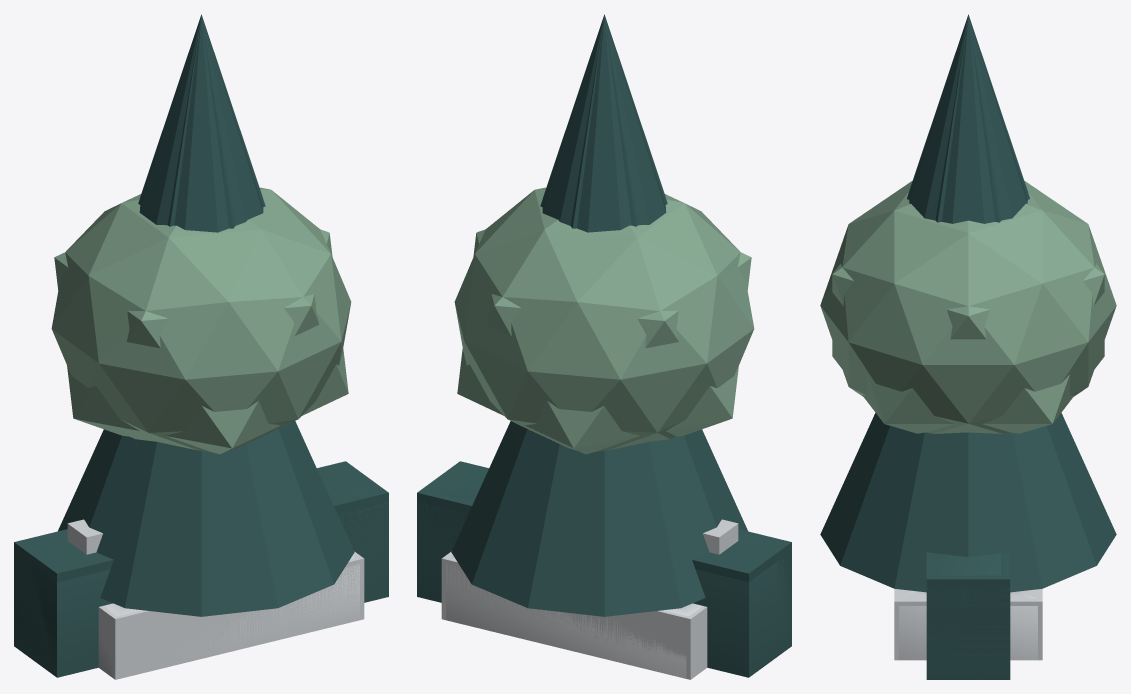
Rendered from ENV_NATURE_KIT_A_v001.glb.
3 views of the same model, side by side, from view 1: azimuth 30°, elevation 25°; view 2: azimuth 150°, elevation 25°; view 3: azimuth 270°, elevation 25° (orthographic). The views are drawn at different scales.
Parts seen in each view (by area): view 1: ENV_NATURE_KIT_A_FIR, ENV_NATURE_KIT_A_TREE, ENV_NATURE_KIT_A_HEDGE_LOW, ENV_NATURE_KIT_A_FOUNTAIN_LOW, ENV_NATURE_KIT_A_HEDGE, ENV_NATURE_KIT_A_TREE_LOW, ENV_NATURE_KIT_A_FOUNTAIN, ENV_NATURE_KIT_A_FIR_LOW; view 2: ENV_NATURE_KIT_A_FIR, ENV_NATURE_KIT_A_TREE, ENV_NATURE_KIT_A_HEDGE, ENV_NATURE_KIT_A_HEDGE_LOW, ENV_NATURE_KIT_A_FOUNTAIN, ENV_NATURE_KIT_A_TREE_LOW, ENV_NATURE_KIT_A_FOUNTAIN_LOW, ENV_NATURE_KIT_A_FIR_LOW; view 3: ENV_NATURE_KIT_A_FIR, ENV_NATURE_KIT_A_TREE, ENV_NATURE_KIT_A_HEDGE_LOW, ENV_NATURE_KIT_A_TREE_LOW, ENV_NATURE_KIT_A_HEDGE, ENV_NATURE_KIT_A_FOUNTAIN, ENV_NATURE_KIT_A_FIR_LOW, ENV_NATURE_KIT_A_FOUNTAIN_LOW.
Part boxes in pixels (left/top/right/bottom): ENV_NATURE_KIT_A_FIR: left=58, top=14, right=354, bottom=616; ENV_NATURE_KIT_A_TREE: left=51, top=187, right=351, bottom=451; ENV_NATURE_KIT_A_HEDGE_LOW: left=14, top=461, right=388, bottom=677; ENV_NATURE_KIT_A_FOUNTAIN_LOW: left=67, top=519, right=364, bottom=679; ENV_NATURE_KIT_A_HEDGE: left=14, top=477, right=388, bottom=677; ENV_NATURE_KIT_A_TREE_LOW: left=54, top=229, right=348, bottom=454; ENV_NATURE_KIT_A_FOUNTAIN: left=70, top=521, right=359, bottom=677; ENV_NATURE_KIT_A_FIR_LOW: left=138, top=16, right=265, bottom=228; ENV_NATURE_KIT_A_FIR: left=451, top=14, right=747, bottom=616; ENV_NATURE_KIT_A_TREE: left=454, top=187, right=754, bottom=451; ENV_NATURE_KIT_A_HEDGE: left=417, top=471, right=791, bottom=677; ENV_NATURE_KIT_A_HEDGE_LOW: left=417, top=461, right=791, bottom=677; ENV_NATURE_KIT_A_FOUNTAIN: left=446, top=521, right=732, bottom=678; ENV_NATURE_KIT_A_TREE_LOW: left=457, top=229, right=751, bottom=454; ENV_NATURE_KIT_A_FOUNTAIN_LOW: left=441, top=519, right=738, bottom=679; ENV_NATURE_KIT_A_FIR_LOW: left=540, top=16, right=667, bottom=228; ENV_NATURE_KIT_A_FIR: left=820, top=14, right=1116, bottom=592; ENV_NATURE_KIT_A_TREE: left=820, top=181, right=1116, bottom=433; ENV_NATURE_KIT_A_HEDGE_LOW: left=926, top=552, right=1010, bottom=679; ENV_NATURE_KIT_A_TREE_LOW: left=832, top=263, right=1104, bottom=433; ENV_NATURE_KIT_A_HEDGE: left=926, top=553, right=1010, bottom=679; ENV_NATURE_KIT_A_FOUNTAIN: left=899, top=590, right=1037, bottom=660; ENV_NATURE_KIT_A_FIR_LOW: left=907, top=16, right=1029, bottom=222; ENV_NATURE_KIT_A_FOUNTAIN_LOW: left=894, top=588, right=1042, bottom=660.
Bounding box in the file's own units: 4 × 7 × 3.2.
